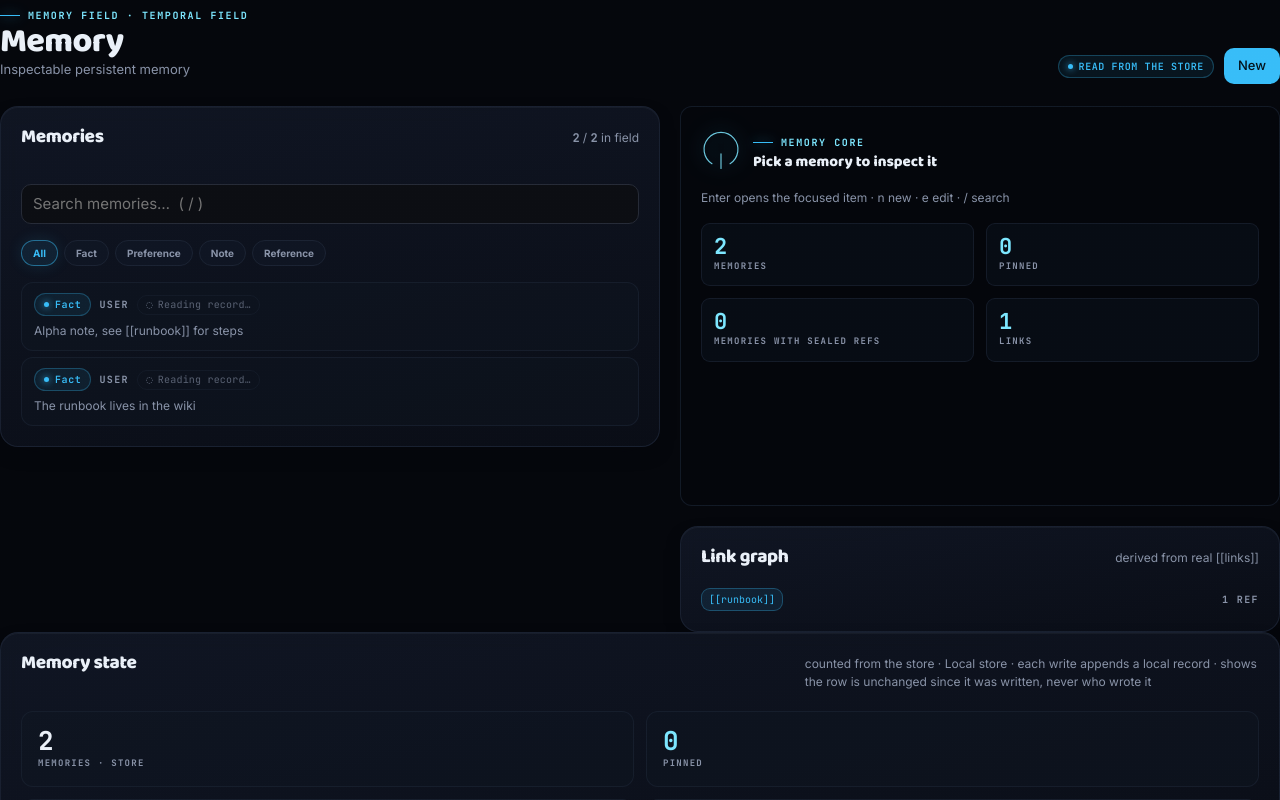
Test: Memory — a link that resolves to nothing is unresolved, not sealed › a link another memory really answers still resolves
Click the text "Alpha note, see [ [runbook]] for steps" at (139, 331), box [34,322,243,340]
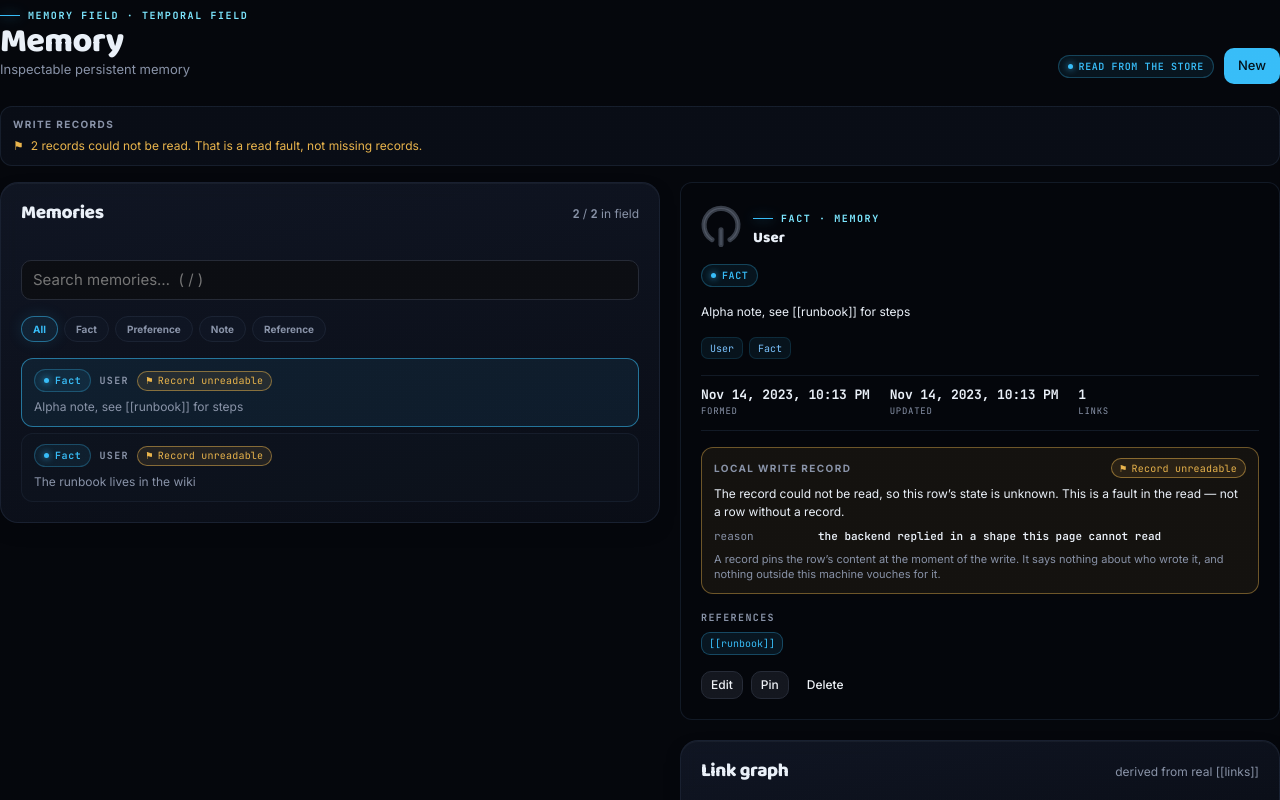
Expected: the button "Delete" is shown, [797,671,854,699]
Expected: the button with class "mem-link--resolved" reads "[ [runbook]]", [701,632,783,655]
